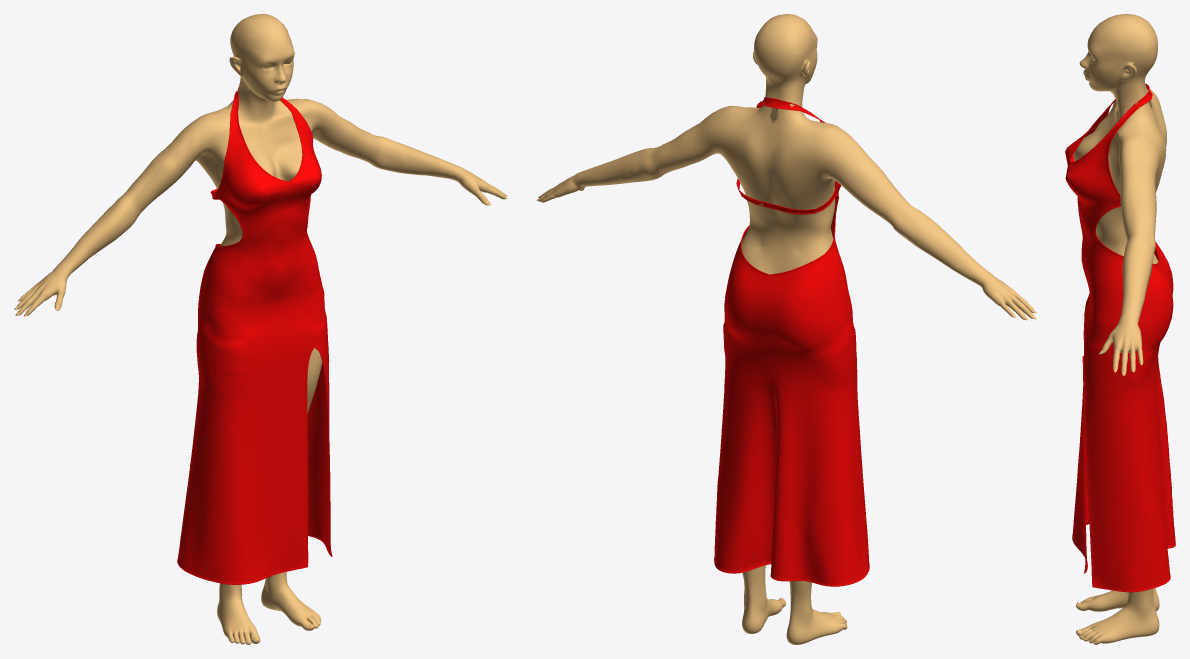
The model's file is dress3.glb.
3 views of the same model, side by side, from view 1: azimuth 30°, elevation 25°; view 2: azimuth 150°, elevation 25°; view 3: azimuth 270°, elevation 25° (orthographic).
Parts seen in each view (by area): view 1: EveningDress, Body; view 2: EveningDress, Body; view 3: EveningDress, Body.
Boxes of the visible parts, <box> form: EveningDress: <box>177,87,332,584</box>; Body: <box>16,14,506,644</box>; EveningDress: <box>714,97,869,586</box>; Body: <box>538,14,1033,644</box>; EveningDress: <box>1065,83,1175,592</box>; Body: <box>1073,14,1166,644</box>.
Bounding box in the file's own units: 1.58 × 1.85 × 0.306.
